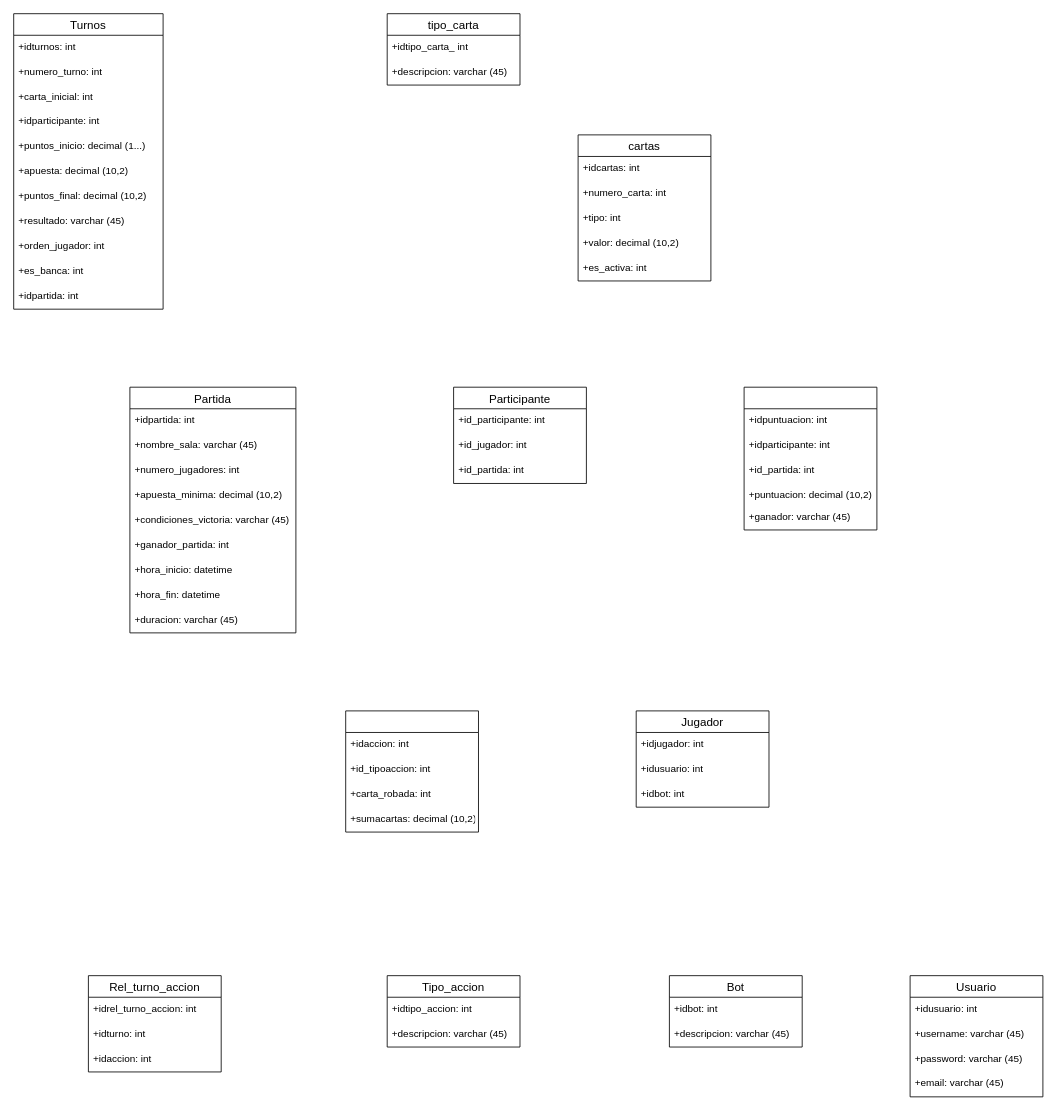
Some shapes in this 1057 by 1111 pixel diagram are drawn without their labels. The box of each missing label's shape, as (x1, y1, x2, y2) in pixels:
Acción: (345, 710, 478, 832)
Puntuación: (743, 386, 877, 530)
